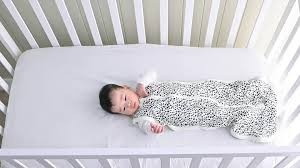baby: (99, 71, 276, 141)
crib: (7, 38, 281, 148)
